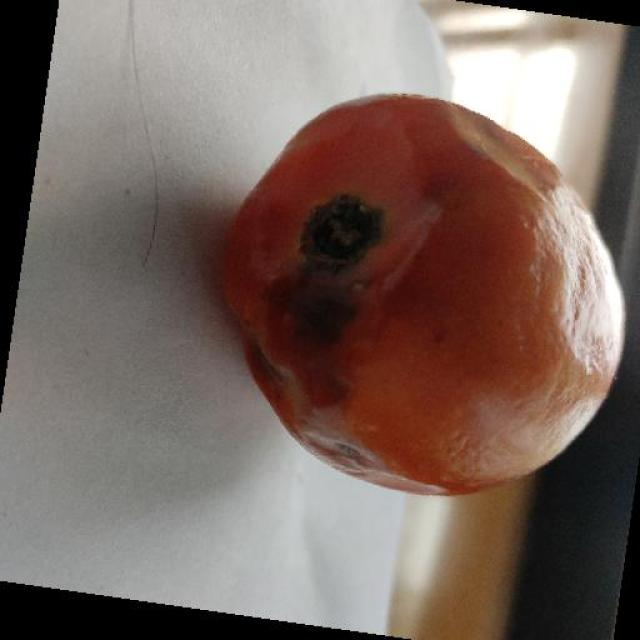Stale_tomato: (220, 111, 621, 473)
